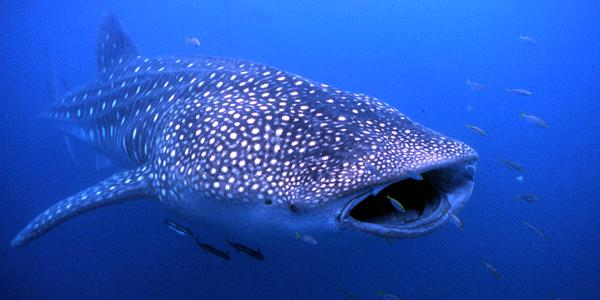Rhincodon_typusw: (22, 12, 509, 272)
